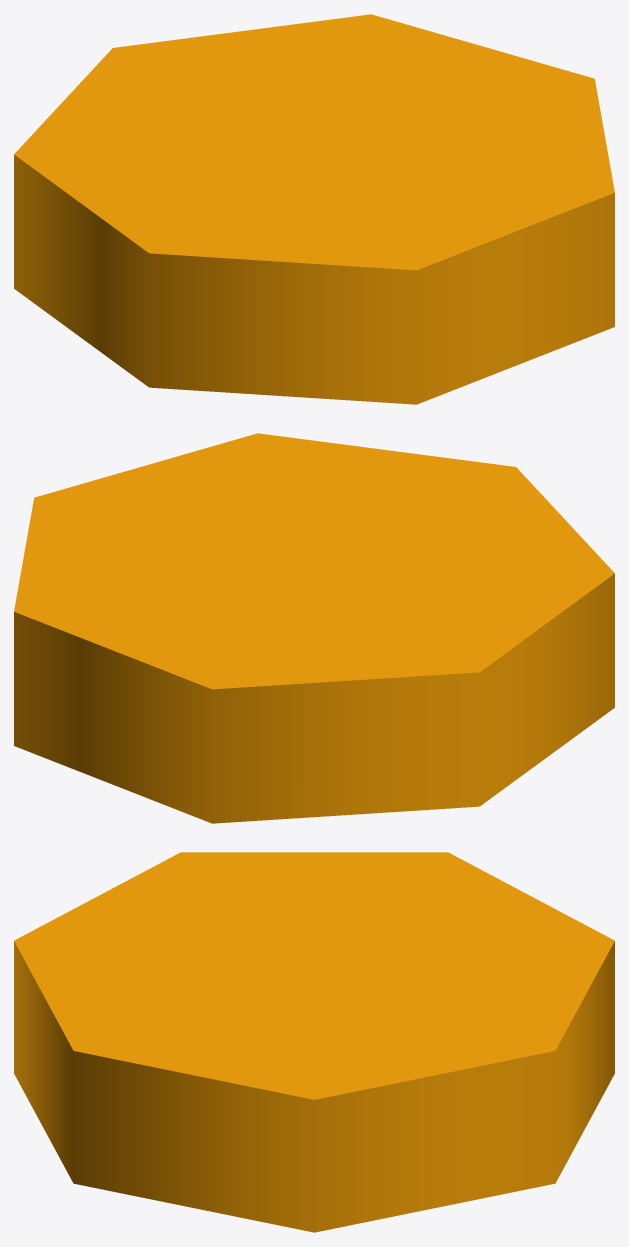
The model's file is Model_Coin.fbx.
3 renders of one model, top to bottom at view 1: azimuth 30°, elevation 25°; view 2: azimuth 150°, elevation 25°; view 3: azimuth 270°, elevation 25°, orthographic.
Visible parts, largest first — view 1: Coin; view 2: Coin; view 3: Coin.
Part boxes in pixels (x1,y1,x2,y2): Coin: (14,14,614,404); Coin: (14,433,614,823); Coin: (14,852,614,1232).
Bounding box in the file's own units: 18.56 × 4.64 × 19.04.
